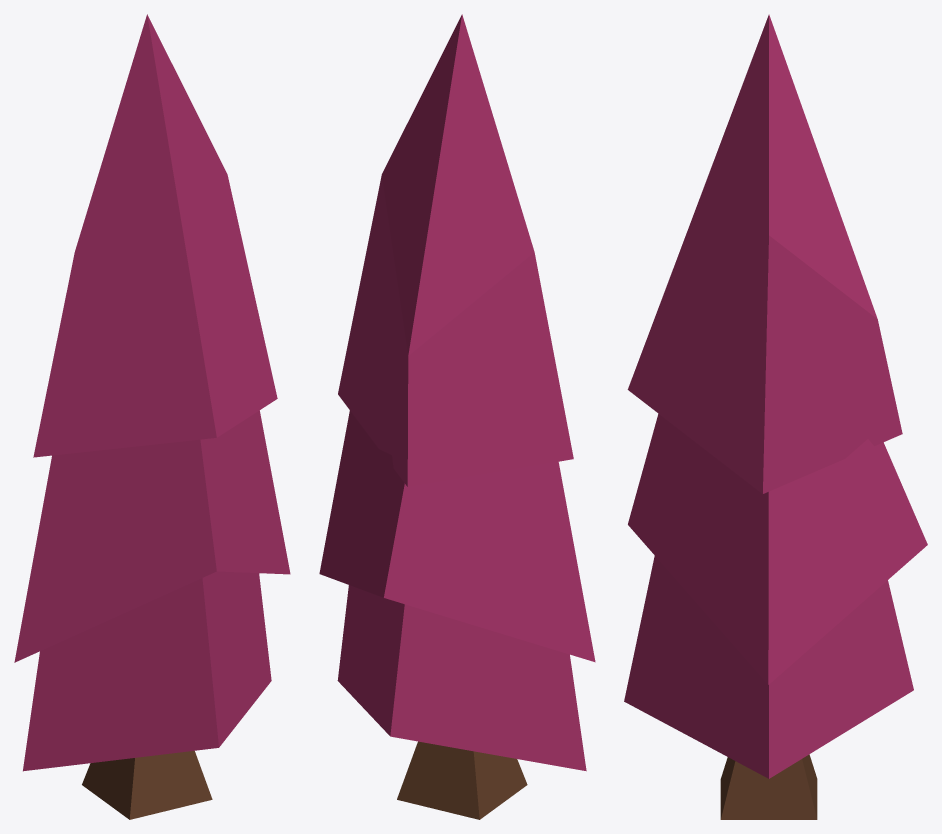
Rendered from Tree_53_Pink.fbx.
The picture shows the model from 3 angles, left to right: view 1: azimuth 30°, elevation 25°; view 2: azimuth 150°, elevation 25°; view 3: azimuth 270°, elevation 25°; orthographic projection.
Parts seen in each view (by area): view 1: Tree_53_Pink_Part_1, Tree_53_Pink_Part_2; view 2: Tree_53_Pink_Part_1, Tree_53_Pink_Part_2; view 3: Tree_53_Pink_Part_1, Tree_53_Pink_Part_2.
Part boxes in pixels (x1=…): Tree_53_Pink_Part_1: x1=14, y1=14, x2=290, y2=771; Tree_53_Pink_Part_2: x1=82, y1=751, x2=212, y2=819; Tree_53_Pink_Part_1: x1=319, y1=14, x2=595, y2=771; Tree_53_Pink_Part_2: x1=397, y1=741, x2=527, y2=819; Tree_53_Pink_Part_1: x1=624, y1=14, x2=927, y2=778; Tree_53_Pink_Part_2: x1=720, y1=754, x2=817, y2=819.
Bounding box in the file's own units: 222 × 598 × 210.
